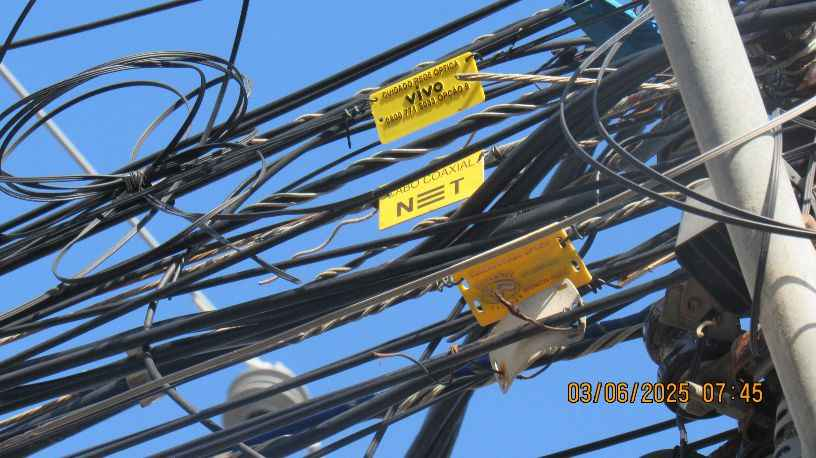coaxial: (176, 139, 816, 237)
fibra_optica: (329, 34, 524, 159), (437, 234, 591, 323)
